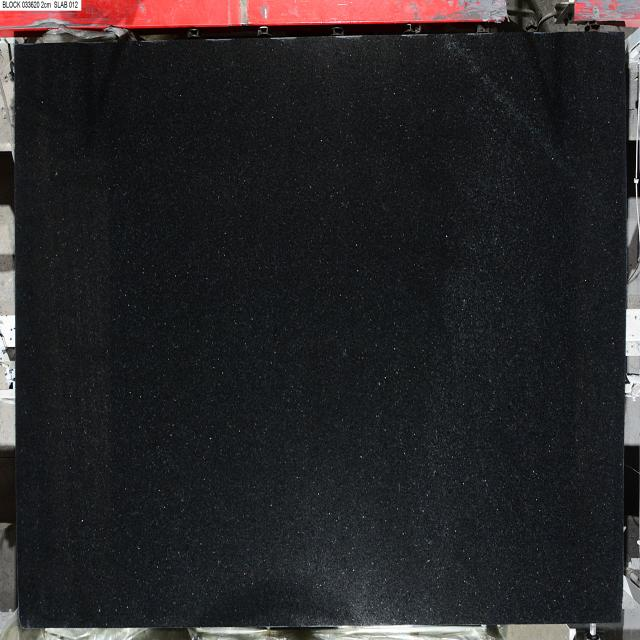chapa: (15, 34, 626, 628)
